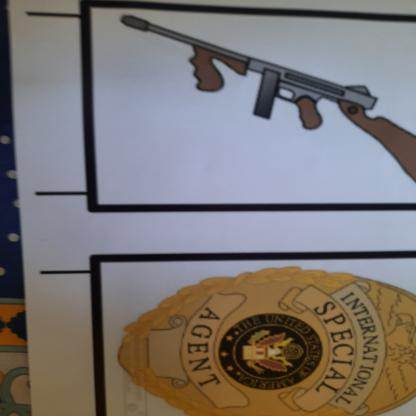Bootlegger: (112, 11, 416, 198)
G-man: (110, 261, 416, 416)
